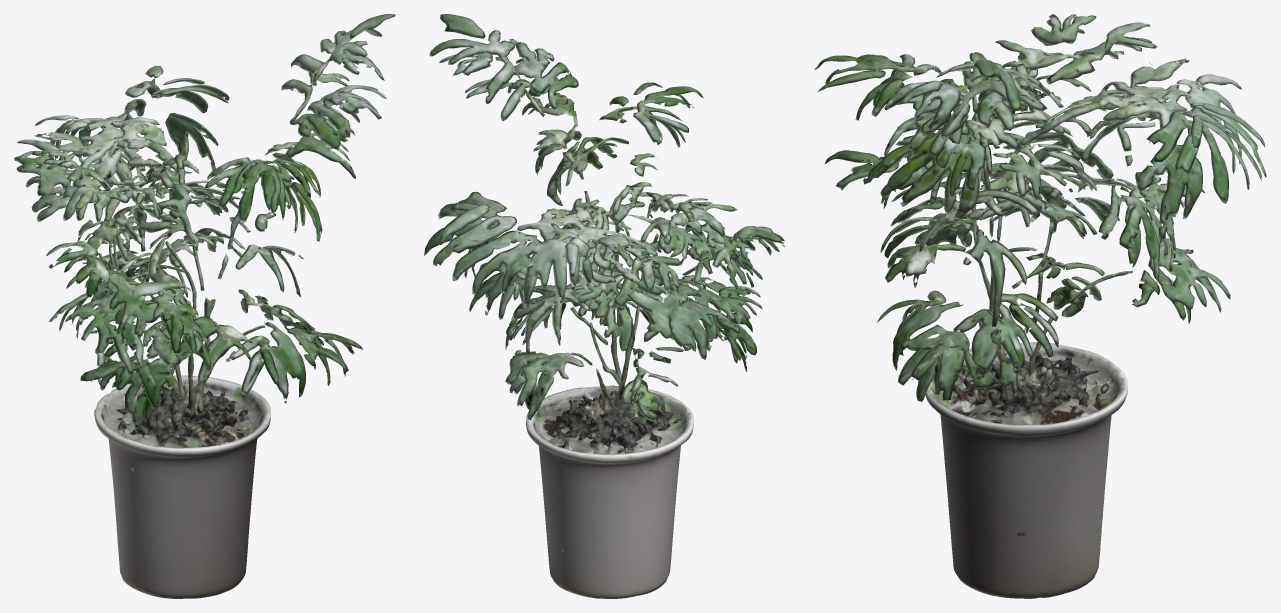
Rendered from neem_plant.glb.
3 renders of one model, left to right at view 1: azimuth 30°, elevation 25°; view 2: azimuth 150°, elevation 25°; view 3: azimuth 270°, elevation 25°, orthographic. The views are drawn at different scales.
Size of the model in its own units: 1.4 by 2 by 1.35.
Materials: 1 (1 with a texture image).
